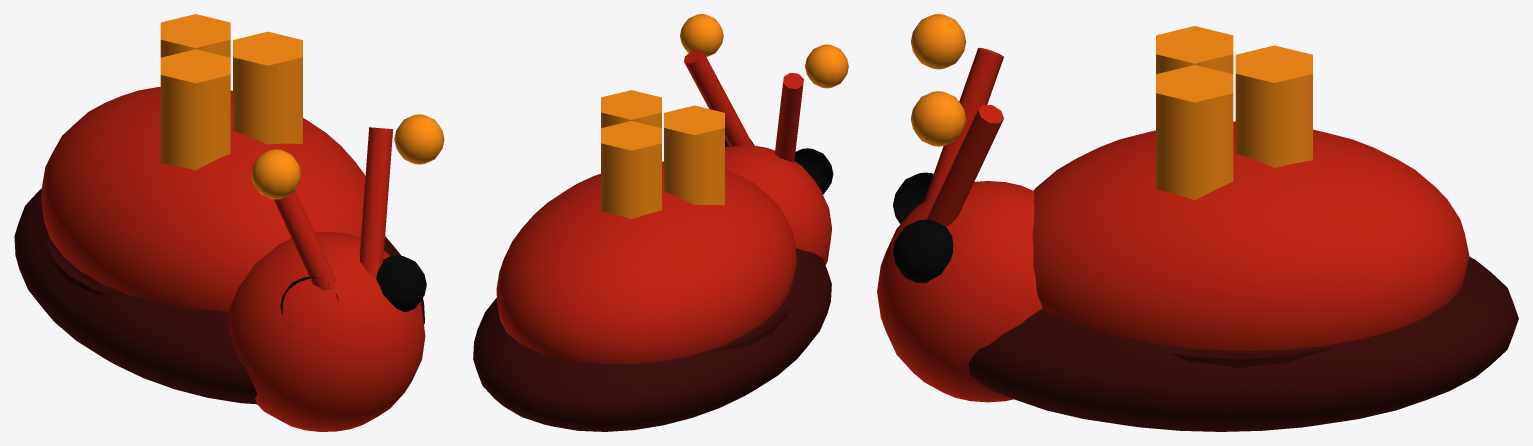
The model's file is ignia.obj.
3 views of the same model, side by side, from view 1: azimuth 30°, elevation 25°; view 2: azimuth 150°, elevation 25°; view 3: azimuth 270°, elevation 25° (orthographic). The views are drawn at different scales.
Size of the model in its own units: 0.448 by 0.4234 by 0.7246.
